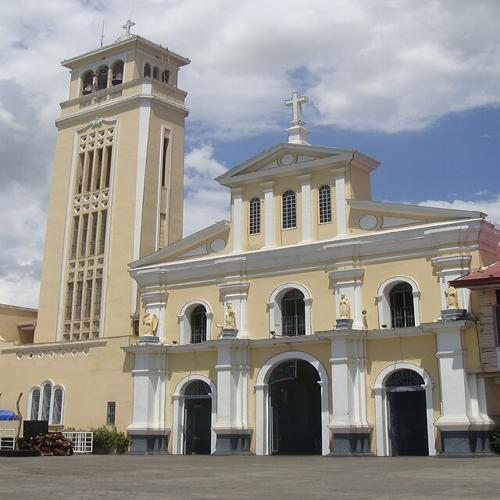Manaoag Church: (30, 16, 489, 459)
